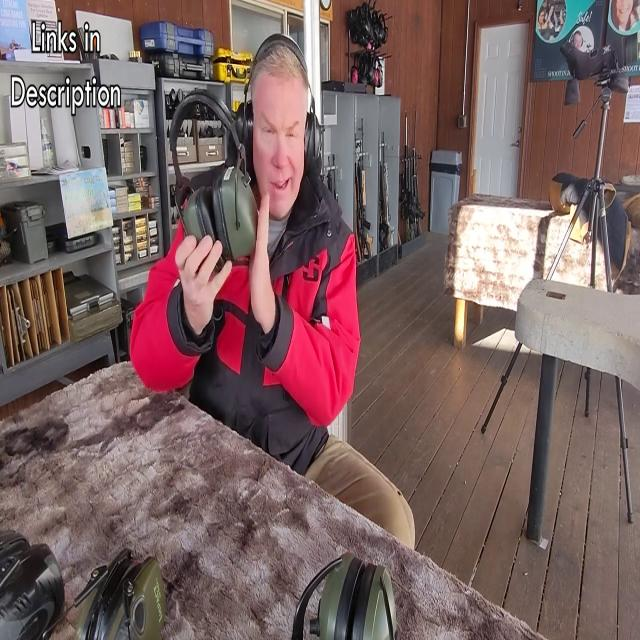earmuff: (212, 159, 259, 262), (231, 94, 257, 172), (302, 110, 326, 178)
